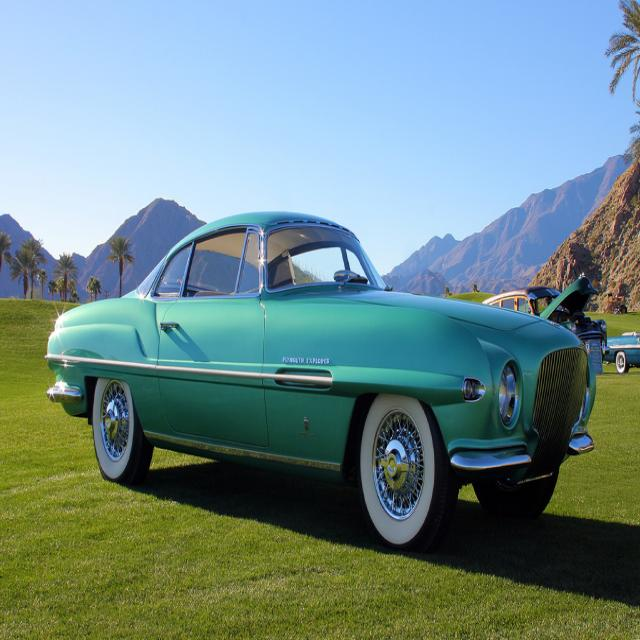car: (50, 219, 582, 538)
